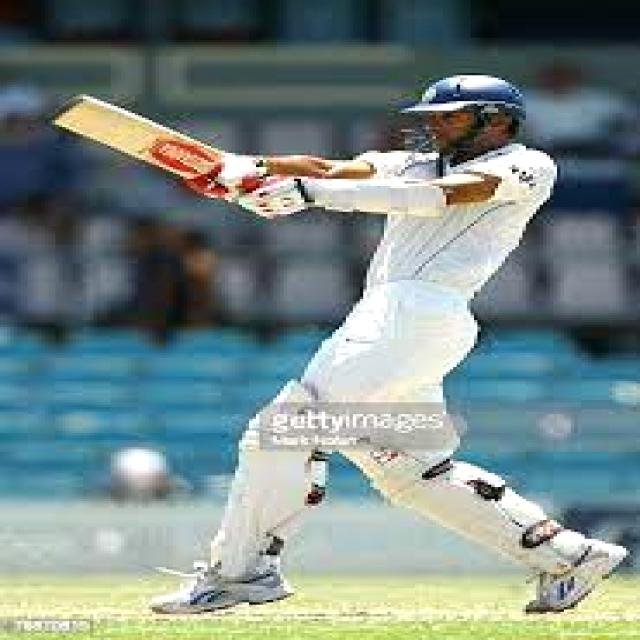toe: (38, 88, 87, 130)
